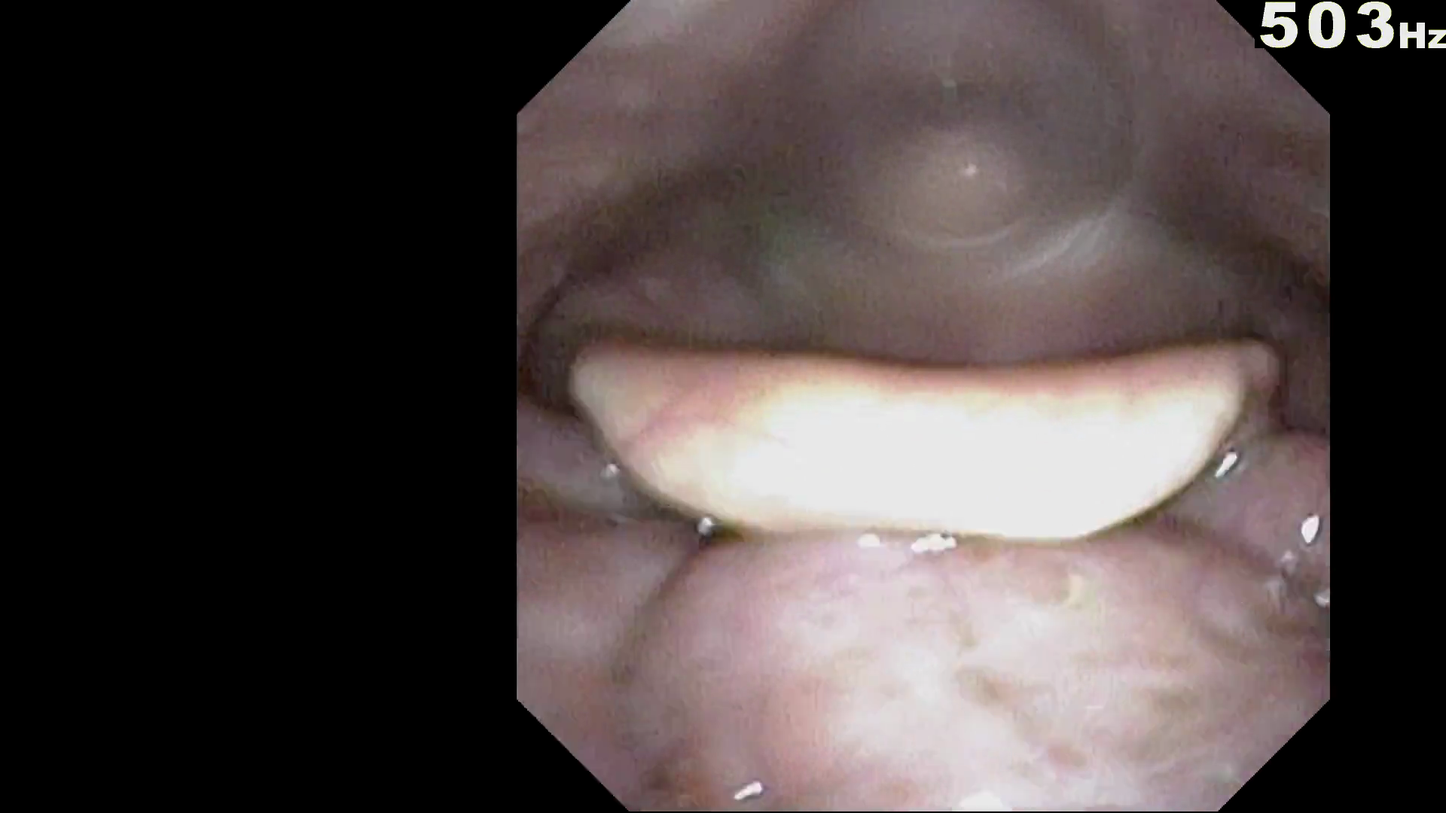epiglottis: (611, 345, 1227, 570)
